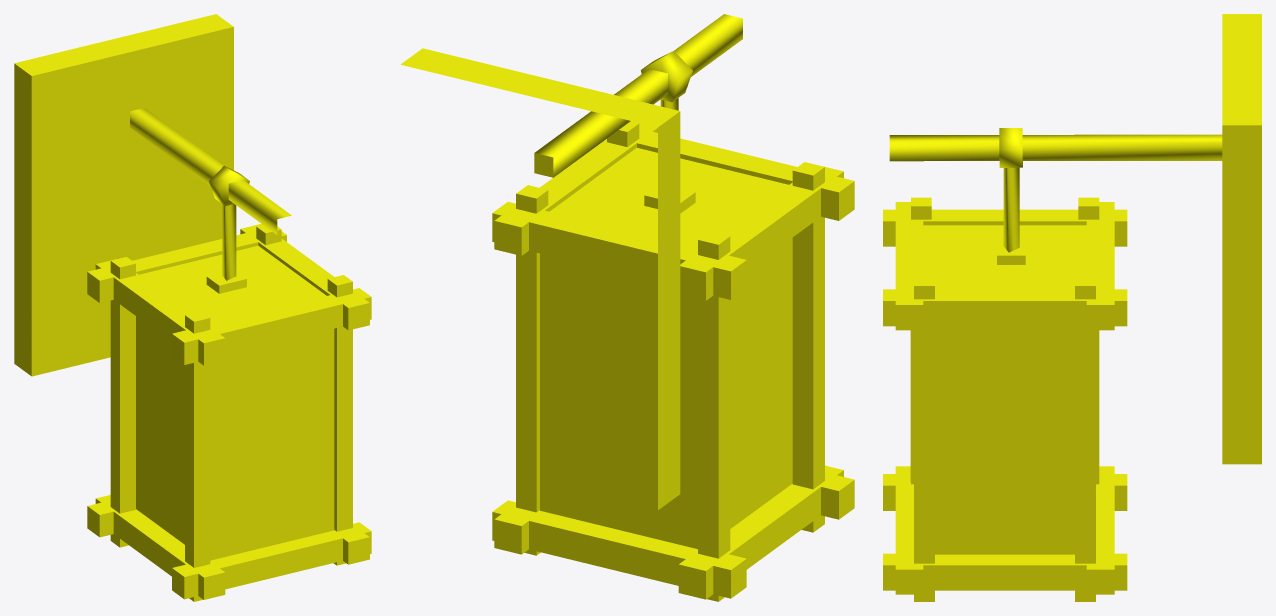
File: wall_lantern.glb
3 views of the same model, side by side, from view 1: azimuth 30°, elevation 25°; view 2: azimuth 150°, elevation 25°; view 3: azimuth 270°, elevation 25° (orthographic). The views are drawn at different scales.
Visible parts, largest first — view 1: wall-lantern; view 2: wall-lantern; view 3: wall-lantern.
Boxes of the visible parts, x1=… form: wall-lantern: x1=14, y1=14, x2=371, y2=601; wall-lantern: x1=401, y1=14, x2=854, y2=601; wall-lantern: x1=883, y1=14, x2=1261, y2=601.
Size of the model in its own units: 0.6537 by 1.33 by 0.9398.
1 material, 1 textured.
